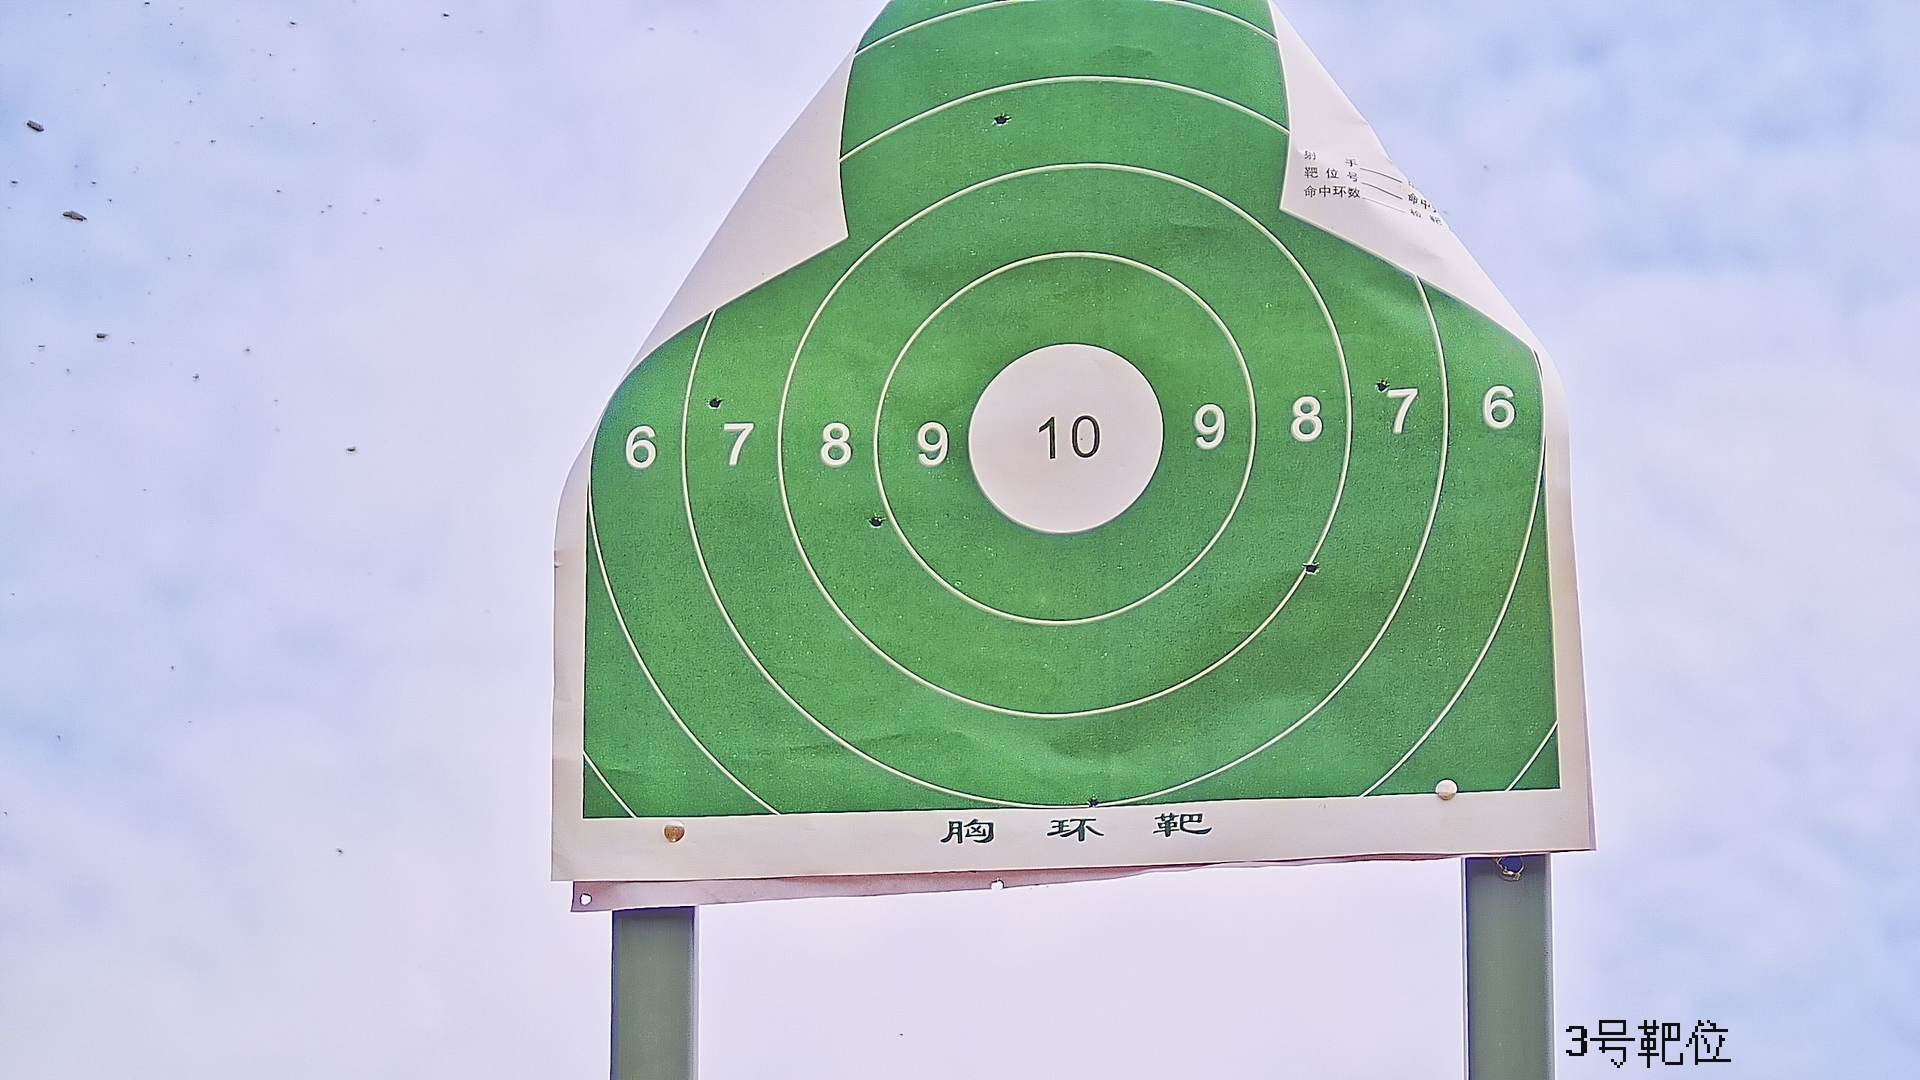hole: (868, 516, 886, 530), (1305, 560, 1321, 576), (1375, 378, 1390, 393), (996, 109, 1007, 127), (707, 396, 720, 407), (1087, 798, 1100, 808)
kernel: (1062, 436, 1065, 444)
target: (578, 1, 1565, 825)
ten: (964, 340, 1166, 535)
